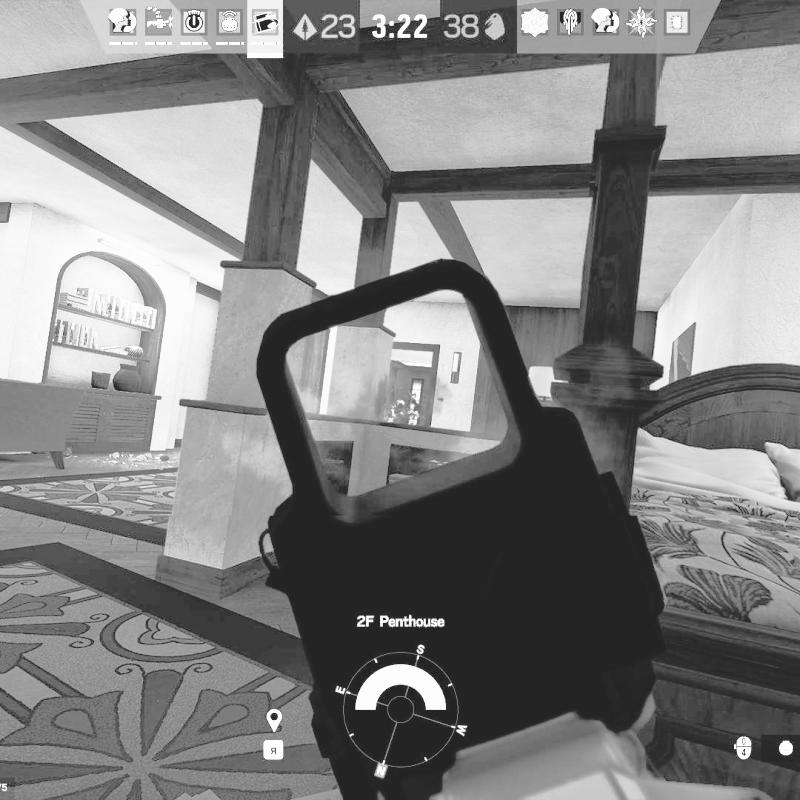Character: (386, 396, 415, 422)
